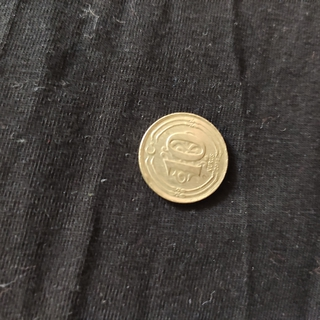10KURUS: (135, 110, 230, 205)
